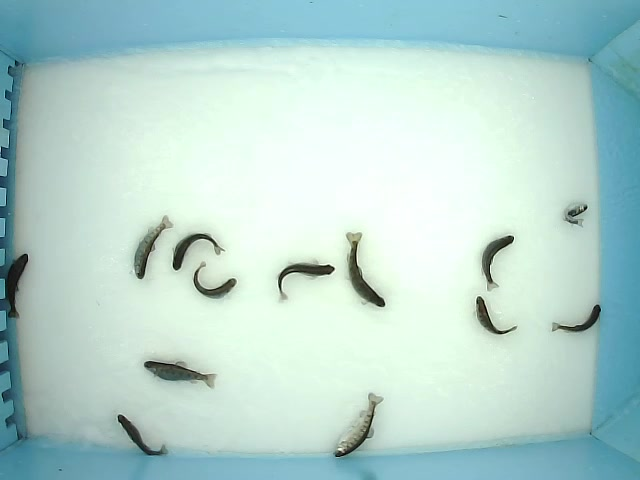fish: (332, 392, 385, 458), (345, 231, 387, 309), (277, 256, 336, 303), (133, 214, 174, 281), (143, 359, 218, 390), (116, 413, 168, 457), (172, 232, 227, 271), (480, 234, 516, 292), (474, 295, 518, 335), (192, 261, 237, 300), (5, 253, 29, 321), (551, 304, 602, 335), (561, 200, 588, 228)
